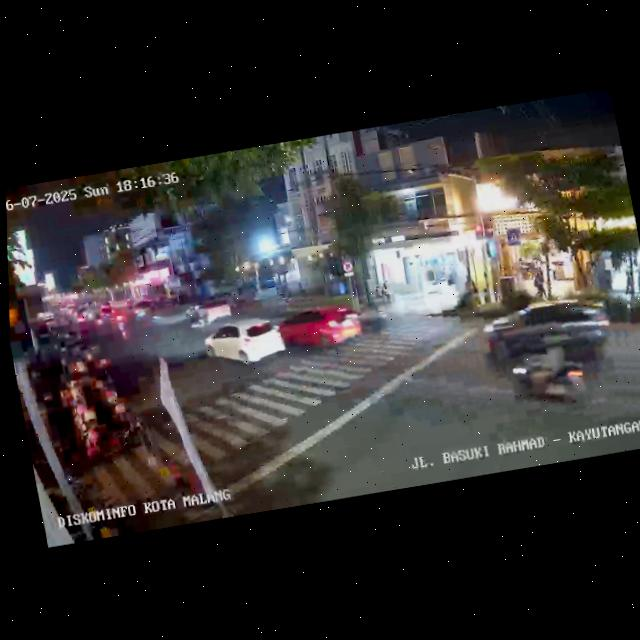car: (478, 292, 618, 384), (275, 297, 369, 364), (201, 312, 290, 375), (199, 298, 232, 324)
motorcycle: (501, 331, 592, 415), (182, 301, 210, 332), (114, 314, 130, 343)
person: (531, 268, 547, 300), (621, 265, 636, 295), (634, 264, 640, 295)
